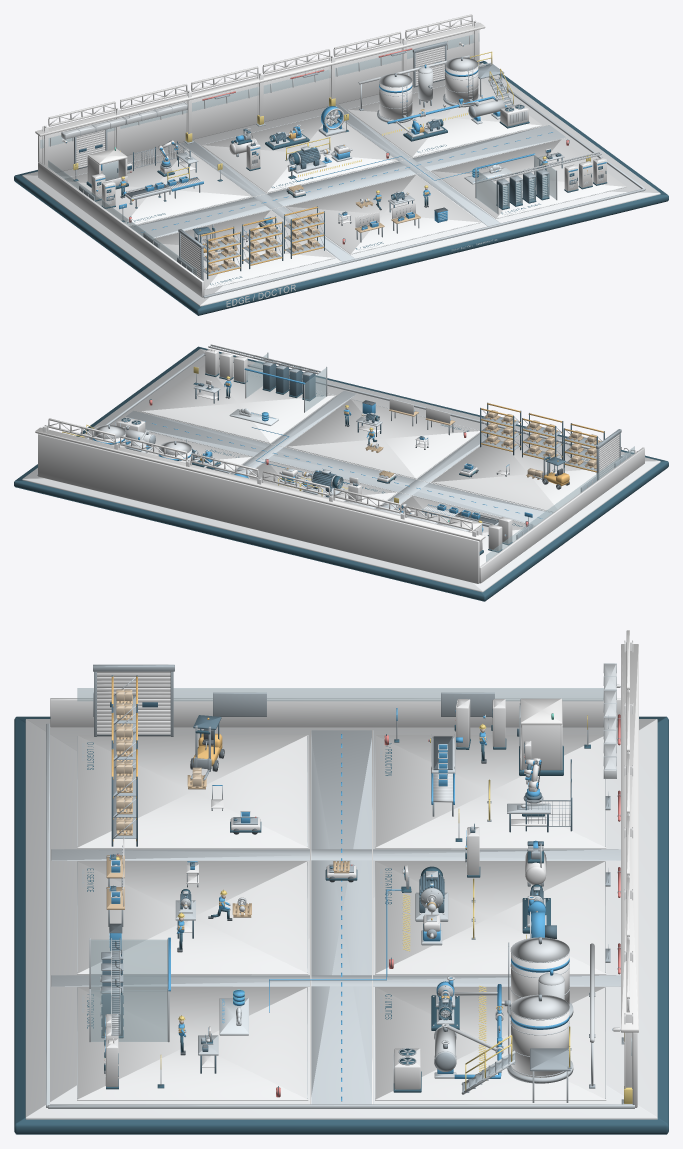
File: factory-web.glb
3 renders of one model, top to bottom at view 1: azimuth 30°, elevation 25°; view 2: azimuth 150°, elevation 25°; view 3: azimuth 270°, elevation 25°, orthographic. The views are drawn at different scales.
Parts seen in each view (by area): view 1: FACTORY_SHELL_01/ED_porcelain, SITE/ED_floor, SITE/ED_edge, SITE/ED_navy, ZONE_E_SURFACE/ED_zone, ZONE_B_SURFACE/ED_zone, ZONE_A_SURFACE/ED_zone, ZONE_F_SURFACE/ED_zone, ZONE_C_SURFACE/ED_zone, ZONE_D_SURFACE/ED_zone, FACTORY_SHELL_01/ED_glass, FACTORY_SHELL_01/ED_white (+11 smaller); view 2: FACTORY_SHELL_01/ED_porcelain, SITE/ED_floor, SITE/ED_edge, SITE/ED_navy, ZONE_E_SURFACE/ED_zone, ZONE_F_SURFACE/ED_zone, ZONE_D_SURFACE/ED_zone, FACTORY_SHELL_01/ED_white, ZONE_B_SURFACE/ED_zone, ZONE_A_SURFACE/ED_zone, NETWORK_ROOM/ED_glass, FACTORY_SHELL_01/ED_edge (+5 smaller); view 3: SITE/ED_floor, SITE/ED_edge, ZONE_E_SURFACE/ED_zone, ZONE_F_SURFACE/ED_zone, ZONE_D_SURFACE/ED_zone, ZONE_A_SURFACE/ED_zone, SITE/ED_navy, ZONE_B_SURFACE/ED_zone, ZONE_C_SURFACE/ED_zone, FACTORY_SHELL_01/ED_porcelain, NETWORK_ROOM/ED_glass, FACTORY_SHELL_01/ED_white (+20 smaller).
Boxes of the visible parts, box(x1,y1,x2,y2) form: FACTORY_SHELL_01/ED_porcelain: box(38, 29, 479, 297); SITE/ED_floor: box(22, 63, 660, 306); SITE/ED_edge: box(130, 105, 566, 261); SITE/ED_navy: box(14, 61, 668, 315); ZONE_E_SURFACE/ED_zone: box(286, 175, 481, 254); ZONE_B_SURFACE/ED_zone: box(201, 115, 396, 192); ZONE_A_SURFACE/ED_zone: box(64, 148, 251, 226); ZONE_F_SURFACE/ED_zone: box(431, 139, 626, 218); ZONE_C_SURFACE/ED_zone: box(347, 78, 542, 157); ZONE_D_SURFACE/ED_zone: box(153, 210, 335, 289); FACTORY_SHELL_01/ED_glass: box(40, 33, 479, 275); FACTORY_SHELL_01/ED_white: box(35, 23, 485, 136); FACTORY_SHELL_01/ED_porcelain: box(38, 433, 644, 583); SITE/ED_floor: box(22, 349, 660, 592); SITE/ED_edge: box(116, 390, 552, 525); SITE/ED_navy: box(14, 346, 668, 601); ZONE_E_SURFACE/ED_zone: box(286, 399, 479, 478); ZONE_F_SURFACE/ED_zone: box(140, 364, 335, 443); ZONE_D_SURFACE/ED_zone: box(431, 436, 596, 512); FACTORY_SHELL_01/ED_white: box(35, 427, 485, 541); ZONE_B_SURFACE/ED_zone: box(248, 461, 397, 505); ZONE_A_SURFACE/ED_zone: box(394, 496, 534, 566); NETWORK_ROOM/ED_glass: box(246, 354, 326, 411); FACTORY_SHELL_01/ED_edge: box(37, 353, 623, 475); SITE/ED_floor: box(25, 719, 657, 1119); SITE/ED_edge: box(51, 730, 620, 1104); ZONE_E_SURFACE/ED_zone: box(77, 861, 308, 974); ZONE_F_SURFACE/ED_zone: box(77, 987, 308, 1100); ZONE_D_SURFACE/ED_zone: box(77, 735, 308, 848); ZONE_A_SURFACE/ED_zone: box(375, 735, 606, 848); SITE/ED_navy: box(14, 716, 668, 1134); ZONE_B_SURFACE/ED_zone: box(375, 861, 606, 974); ZONE_C_SURFACE/ED_zone: box(375, 987, 606, 1100); FACTORY_SHELL_01/ED_porcelain: box(50, 698, 637, 1107); NETWORK_ROOM/ED_glass: box(91, 939, 167, 1041); FACTORY_SHELL_01/ED_white: box(621, 644, 638, 1032).
Bounding box in the file's own units: 42.8 × 5.74 × 29.01.
